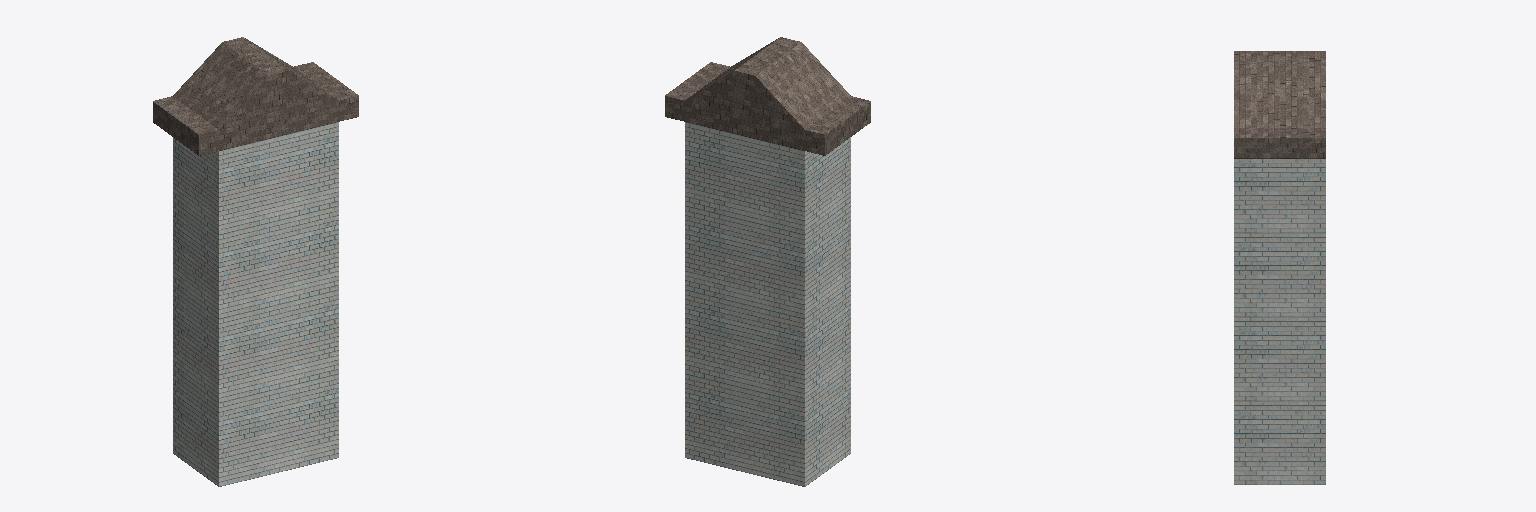
3 renders of one model, left to right at view 1: azimuth 30°, elevation 25°; view 2: azimuth 150°, elevation 25°; view 3: azimuth 270°, elevation 25°, orthographic.
Parts seen in each view (by area): view 1: Fence_Pillar; view 2: Fence_Pillar; view 3: Fence_Pillar.
Part boxes in pixels (x1,y1,x2,y2): Fence_Pillar: (153,37,358,486); Fence_Pillar: (665,37,870,486); Fence_Pillar: (1234,51,1325,484).
Size of the model in its own units: 2 by 4.75 by 1.
Materials: 2 (2 with a texture image).